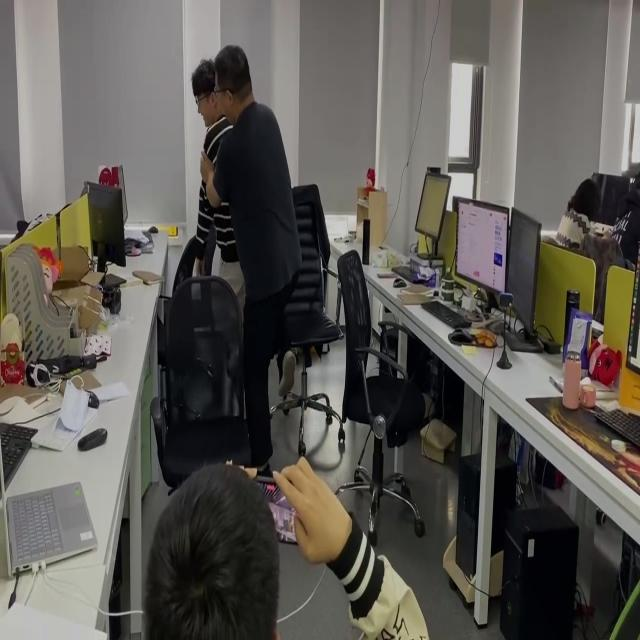fight: (182, 36, 314, 481)
